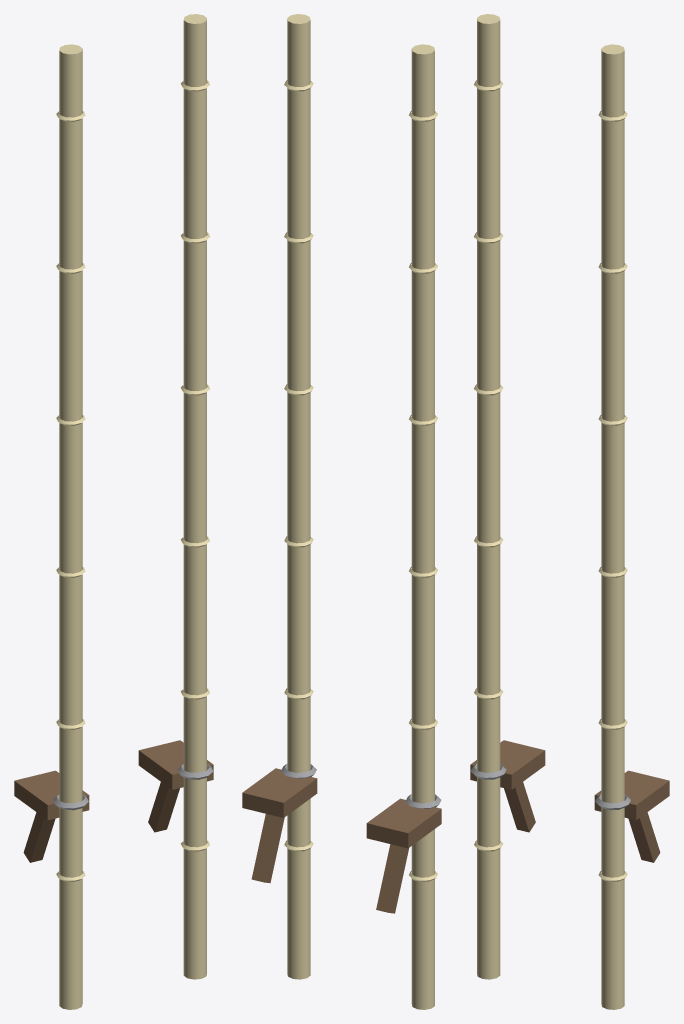
The model's file is Egrang_Stilts.fbx.
3 views of the same model, side by side, from view 1: azimuth 30°, elevation 25°; view 2: azimuth 150°, elevation 25°; view 3: azimuth 330°, elevation 25° (orthographic).
Parts seen in each view (by area): view 1: Egrang_Stilts; view 2: Egrang_Stilts; view 3: Egrang_Stilts.
Part boxes in pixels (x1=…): Egrang_Stilts: x1=14, y1=14, x2=213, y2=1009; Egrang_Stilts: x1=242, y1=14, x2=441, y2=1009; Egrang_Stilts: x1=470, y1=14, x2=669, y2=1009.
Size of the model in its own units: 0.4 by 2.2 by 0.2078.
